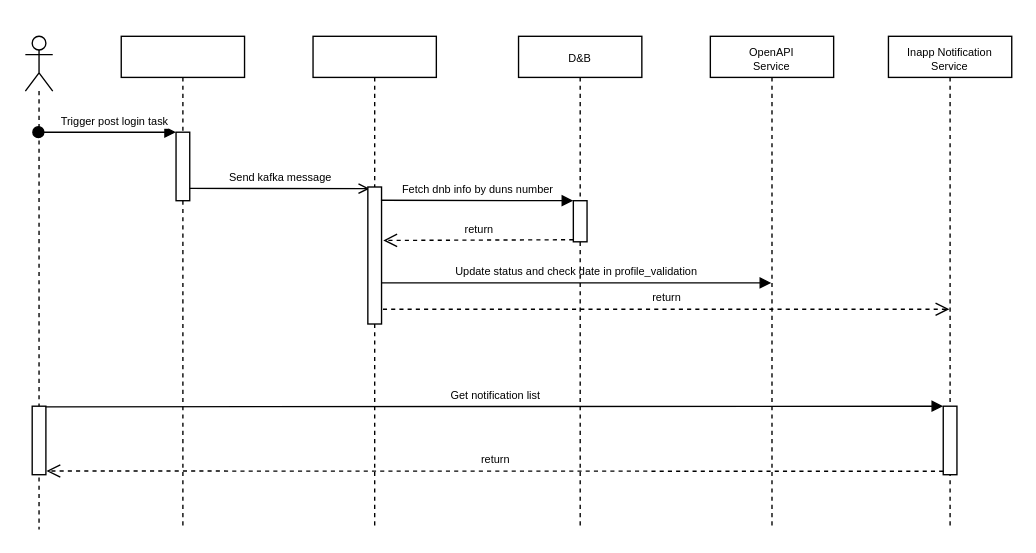
Image size: 1036x553. Some labels were removed from this diagram. Here are the shapes that lost their labels. From the top down, the box of each, then its label:
(120, 35, 245, 530): CompanyProfile PostLoginTask
(312, 35, 436, 530): Externaldata Service
